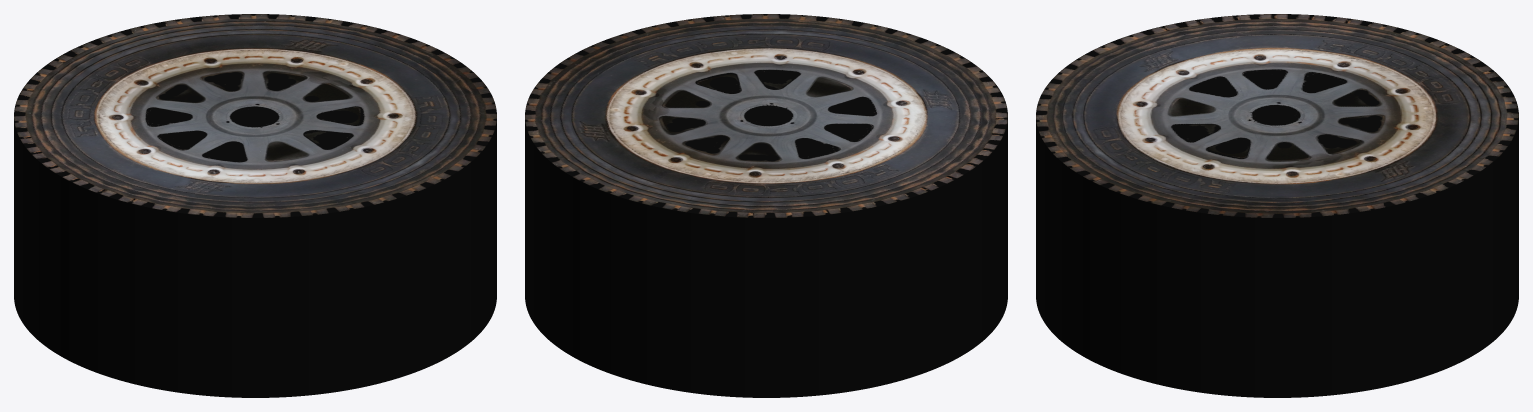
File: autoRallyPlatformRearWheelTextured.dae
3 renders of one model, left to right at view 1: azimuth 30°, elevation 25°; view 2: azimuth 150°, elevation 25°; view 3: azimuth 270°, elevation 25°, orthographic.
Visible parts, largest first — view 1: rearWheelCylinder_HQ; view 2: rearWheelCylinder_HQ; view 3: rearWheelCylinder_HQ.
Part boxes in pixels (x1,y1,x2,y2): rearWheelCylinder_HQ: (14,14,496,397); rearWheelCylinder_HQ: (525,14,1007,397); rearWheelCylinder_HQ: (1036,14,1518,397).
Size of the model in its own units: 0.1854 by 0.1854 by 0.0762.
1 material, 1 textured.
